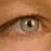eye: (21, 18, 38, 32)
